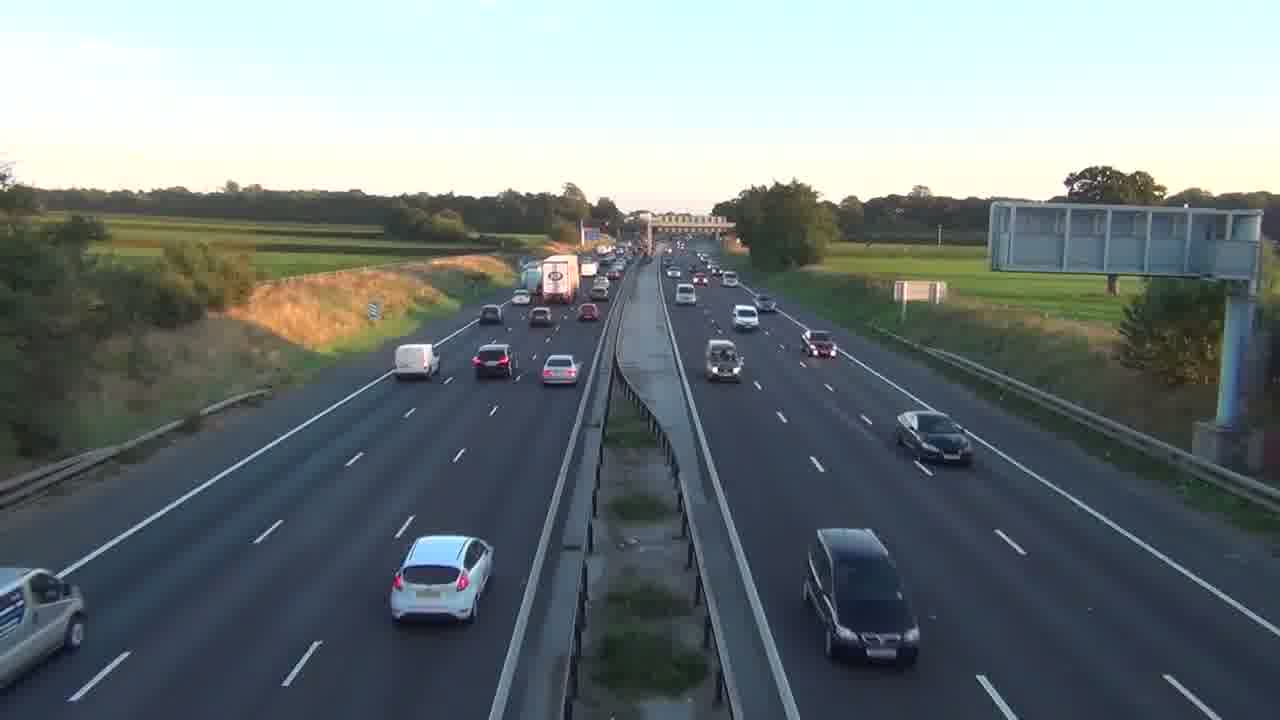car: (0, 565, 88, 691), (387, 533, 495, 626), (895, 409, 975, 465), (471, 341, 516, 381), (540, 354, 580, 387), (528, 305, 553, 327), (478, 304, 502, 325)
truck: (802, 527, 921, 667), (0, 565, 88, 691), (393, 342, 440, 381)
